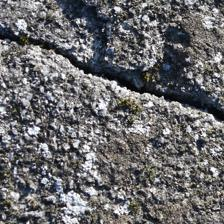Crack: (4, 24, 221, 125)
